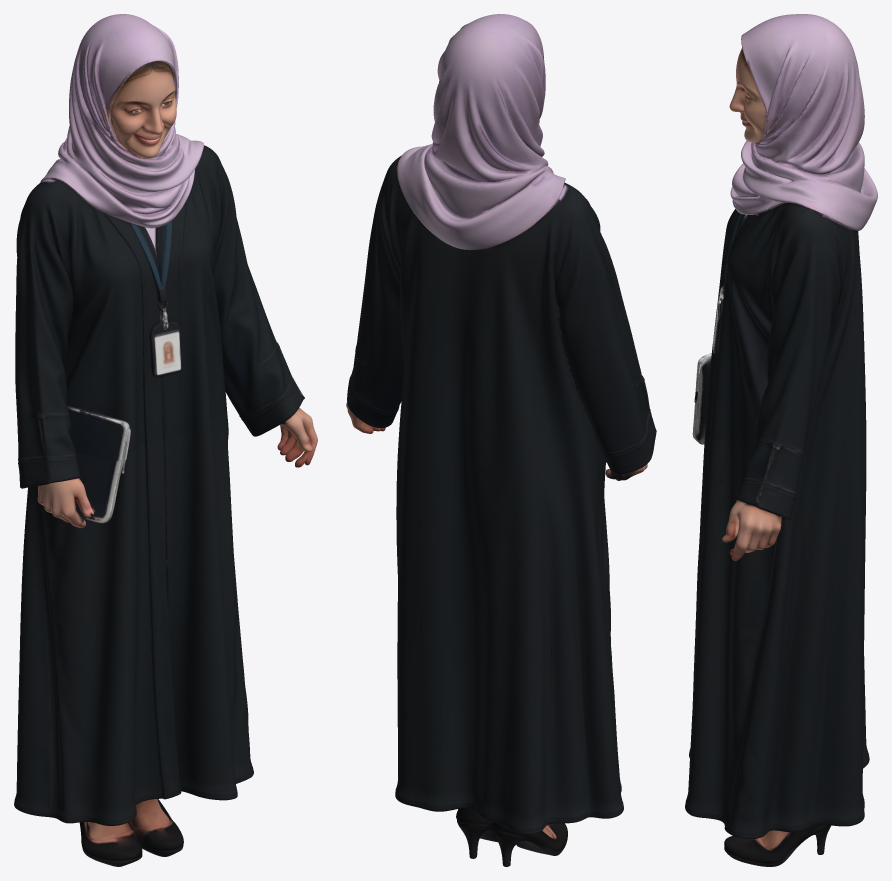
File: rep.glb
The picture shows the model from 3 angles, left to right: view 1: azimuth 30°, elevation 25°; view 2: azimuth 150°, elevation 25°; view 3: azimuth 270°, elevation 25°; orthographic projection. The views are drawn at different scales.
Parts seen in each view (by area): view 1: node_0; view 2: node_0; view 3: node_0.
Boxes of the visible parts, x1,y1,x2,y2 form: node_0: [14, 14, 317, 866]; node_0: [346, 14, 656, 866]; node_0: [685, 14, 877, 866].
Bounding box in the file's own units: 0.4441 × 1.18 × 0.2485.
Materials: 1 (1 with a texture image).
